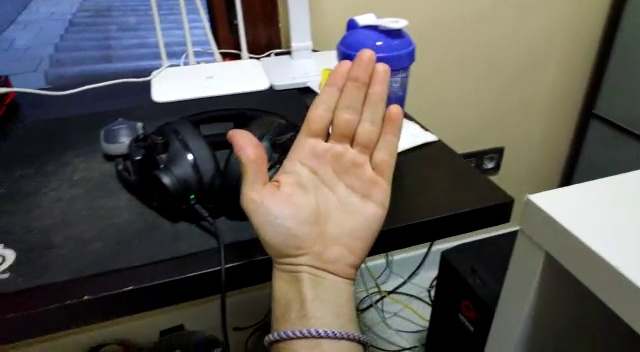Palm: (224, 48, 409, 276)
